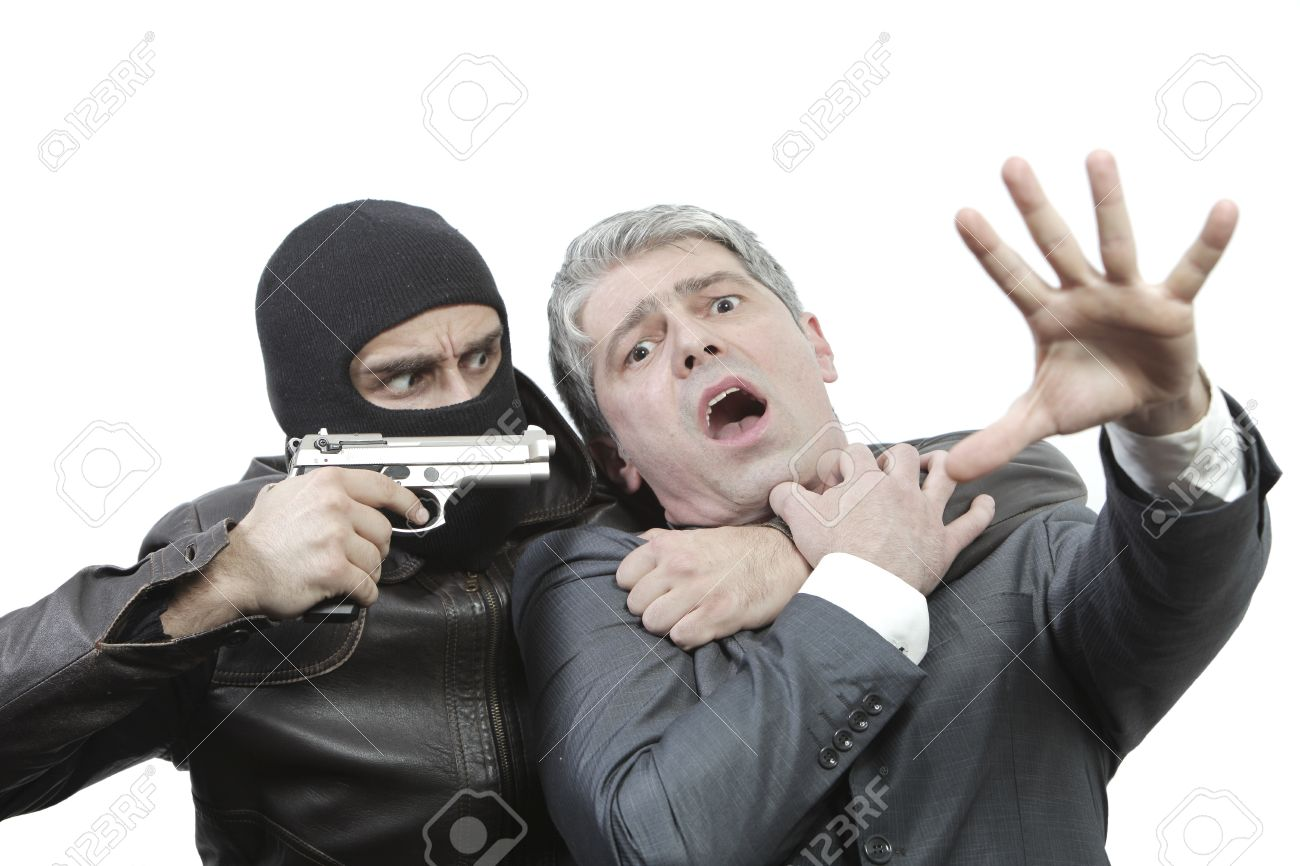pistol: (282, 424, 557, 622)
